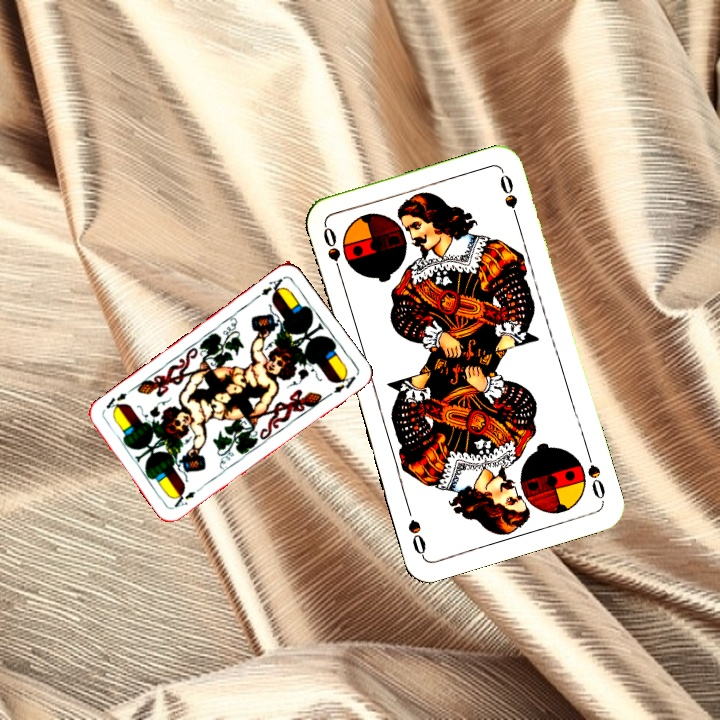EA: (170, 481, 206, 510), (251, 273, 286, 302)
SO: (575, 446, 608, 504), (319, 222, 345, 280)
